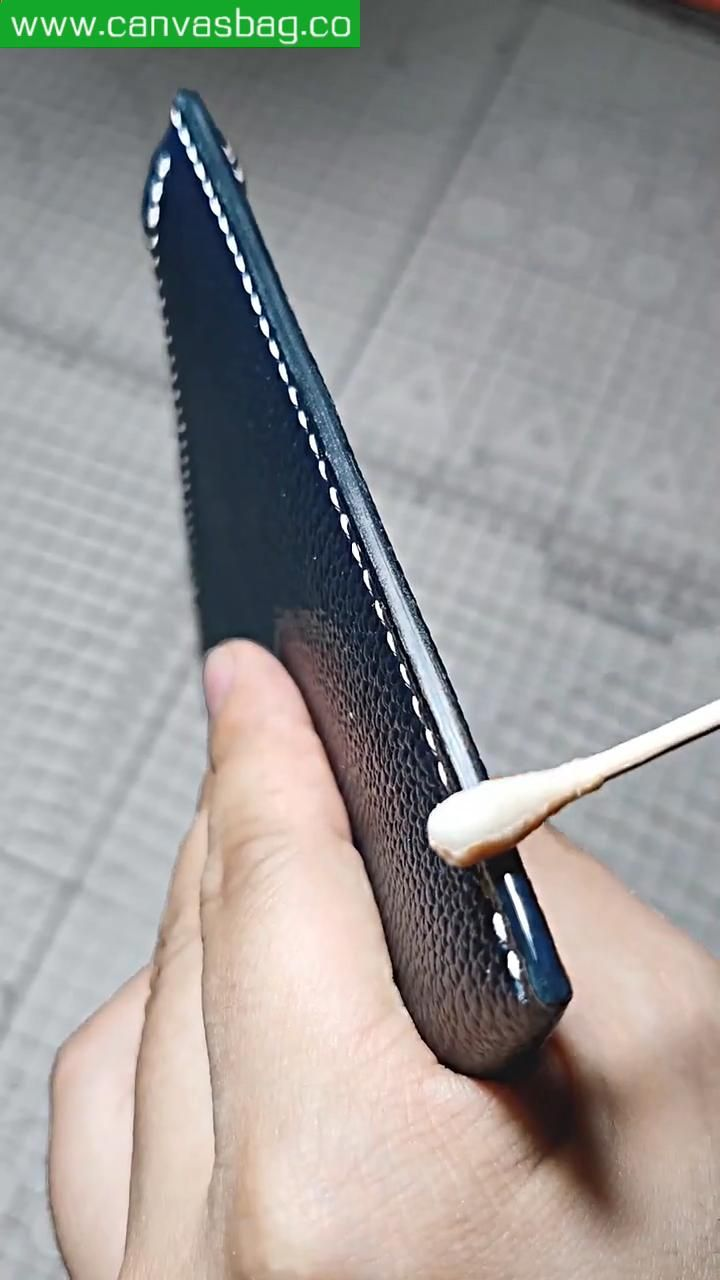cuero: (144, 90, 576, 1077)
